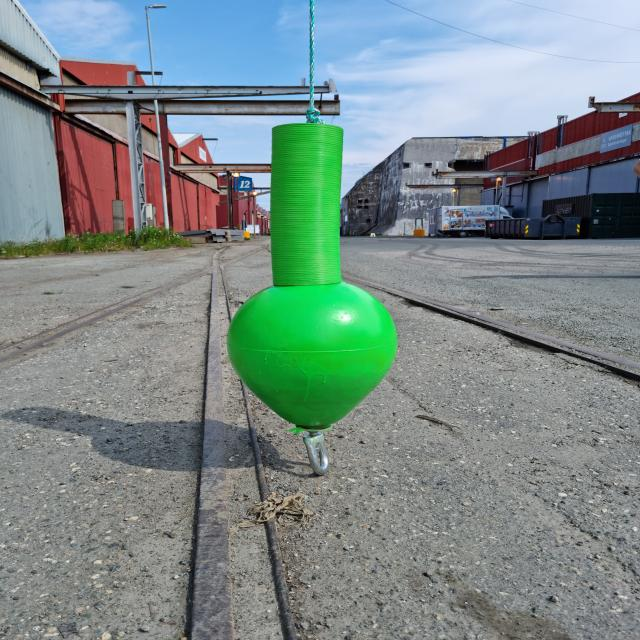green: (227, 122, 400, 430)
